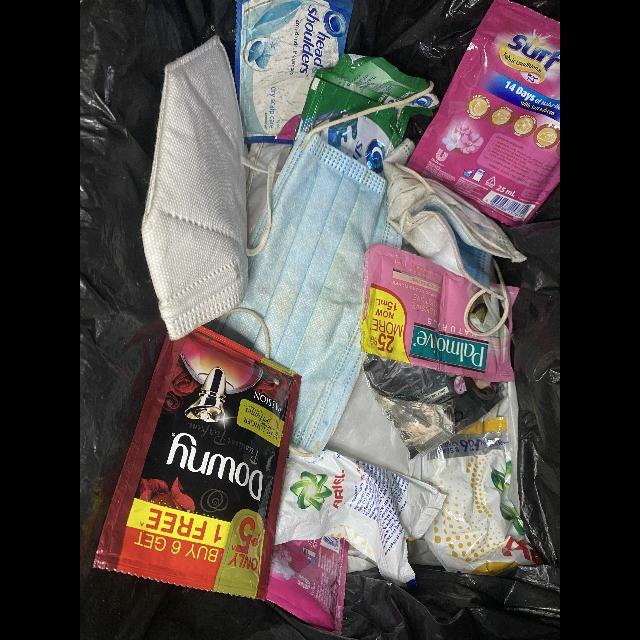plastic_sachet: (92, 329, 300, 603), (407, 0, 560, 227), (408, 397, 543, 576), (274, 447, 447, 584), (360, 245, 519, 383), (235, 0, 355, 147), (299, 53, 440, 174), (363, 355, 507, 460), (266, 536, 349, 636)
